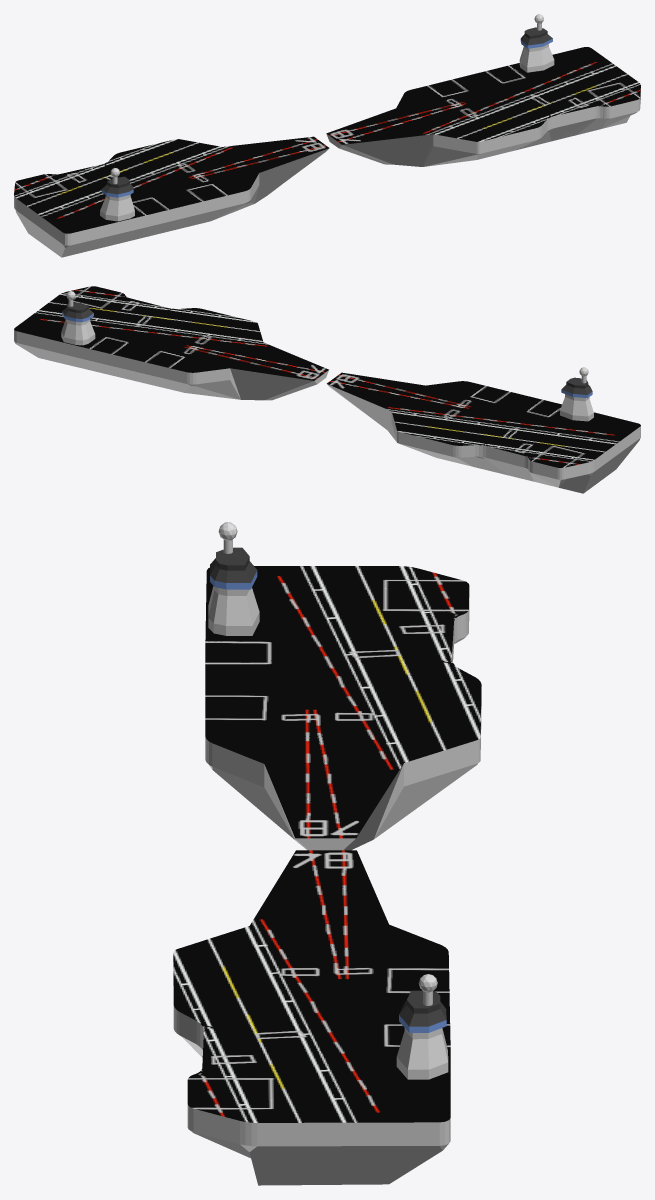
The model's file is aircraft_carrier.glb.
3 renders of one model, top to bottom at view 1: azimuth 30°, elevation 25°; view 2: azimuth 150°, elevation 25°; view 3: azimuth 270°, elevation 25°, orthographic. The views are drawn at different scales.
Parts seen in each view (by area): view 1: Plane.001, Plane; view 2: Plane, Plane.001; view 3: Plane.001, Plane.
Part boxes in pixels (x1=…): Plane.001: x1=326, y1=14, x2=640, y2=166; Plane: x1=14, y1=136, x2=329, y2=257; Plane: x1=327, y1=367, x2=640, y2=493; Plane.001: x1=14, y1=286, x2=328, y2=400; Plane.001: x1=173, y1=850, x2=450, y2=1185; Plane: x1=205, y1=522, x2=481, y2=850.
Bounding box in the file's own units: 95.45 × 13.53 × 22.31.
Materials: 4 (1 with a texture image).
